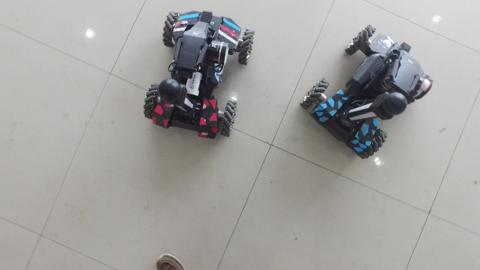chariot: (296, 19, 437, 170), (135, 6, 264, 140)
